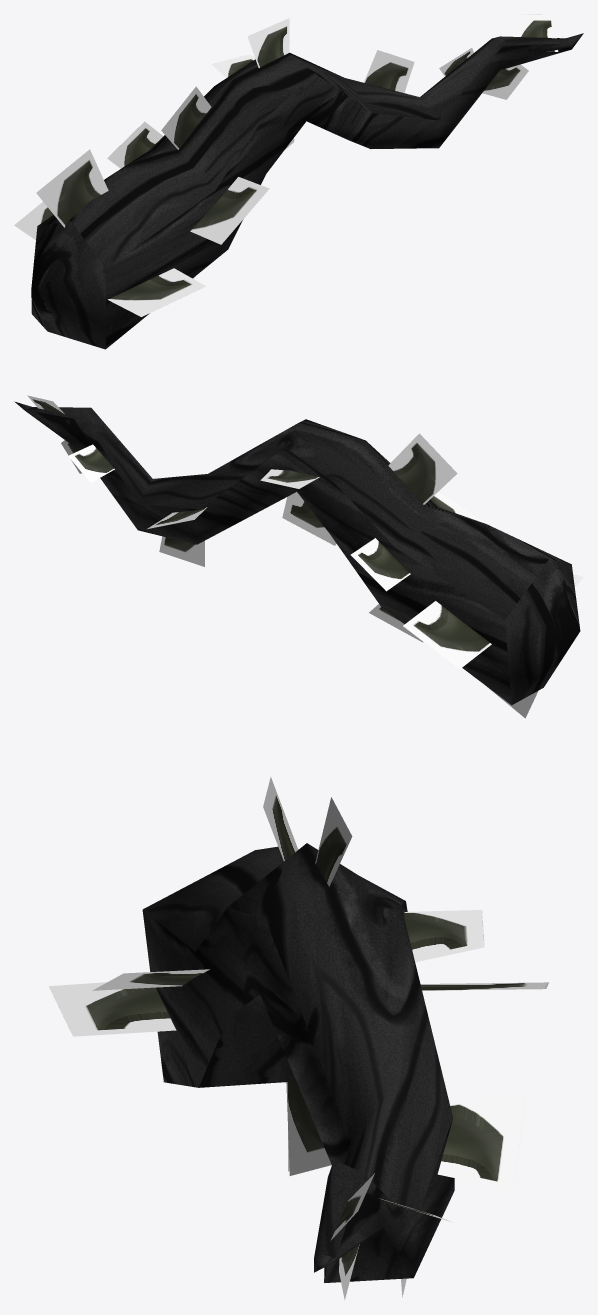
Rendered from shared_rootcorrupt_01.fbx.
The picture shows the model from 3 angles, top to bottom: view 1: azimuth 30°, elevation 25°; view 2: azimuth 150°, elevation 25°; view 3: azimuth 270°, elevation 25°; orthographic projection. The views are drawn at different scales.
Visible parts, largest first — view 1: shared_rootcorrupt_01; view 2: shared_rootcorrupt_01; view 3: shared_rootcorrupt_01.
Part boxes in pixels (x1=…): shared_rootcorrupt_01: x1=14, y1=14, x2=583, y2=349; shared_rootcorrupt_01: x1=14, y1=395, x2=583, y2=718; shared_rootcorrupt_01: x1=49, y1=777, x2=548, y2=1300.
Size of the model in its own units: 5.81 by 2.77 by 2.28.
